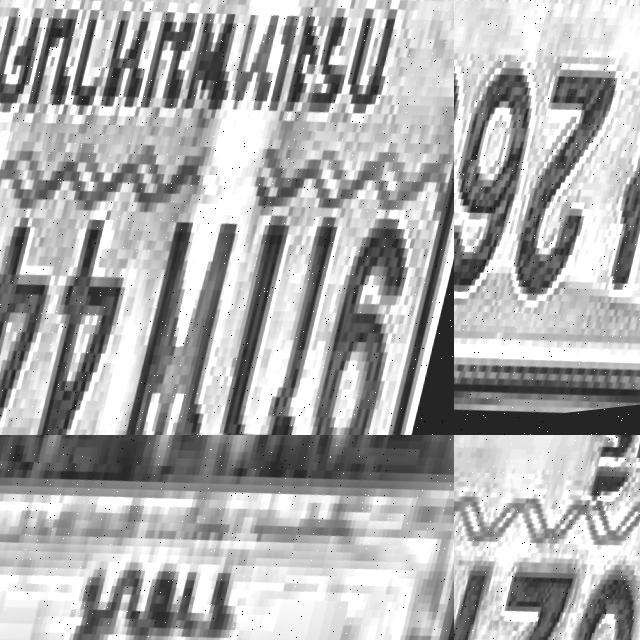license-plate: (0, 0, 454, 435), (0, 435, 454, 640), (454, 0, 640, 435), (454, 435, 640, 640)
